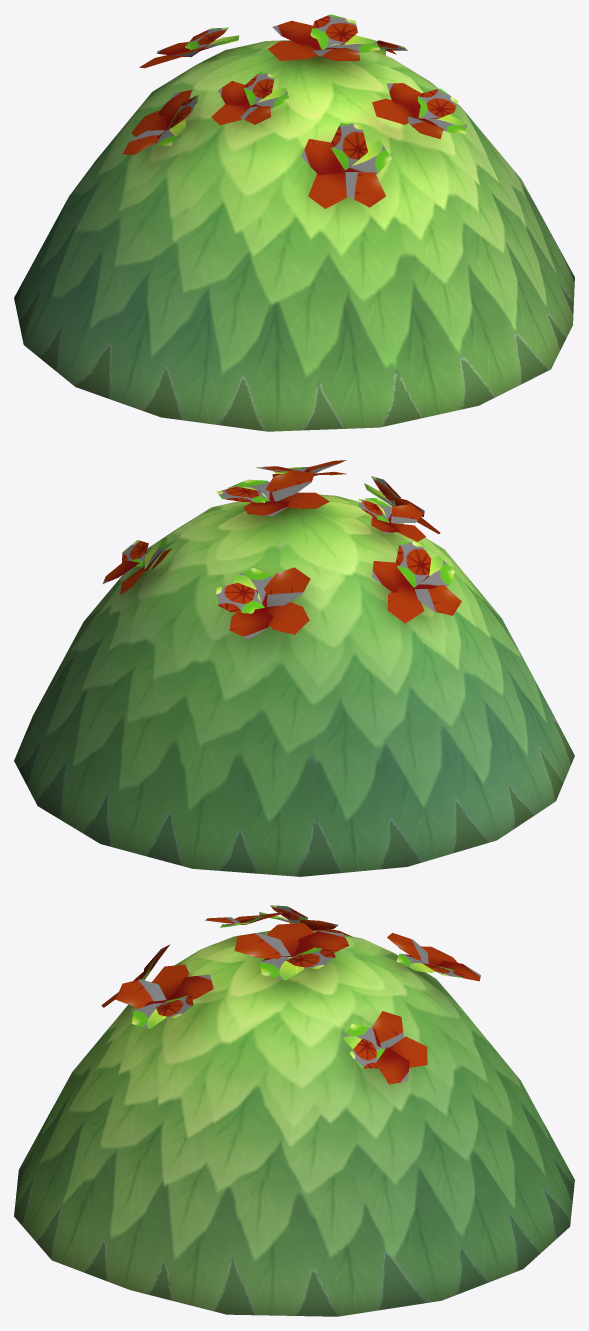
Rendered from decor_6.fbx.
3 renders of one model, top to bottom at view 1: azimuth 30°, elevation 25°; view 2: azimuth 150°, elevation 25°; view 3: azimuth 270°, elevation 25°, orthographic. The views are drawn at different scales.
Parts seen in each view (by area): view 1: Plane.003; view 2: Plane.003; view 3: Plane.003.
Part boxes in pixels (x1=…): Plane.003: x1=14, y1=14, x2=574, y2=431; Plane.003: x1=14, y1=460, x2=574, y2=876; Plane.003: x1=14, y1=905, x2=574, y2=1316.
Size of the model in its own units: 0.7746 by 0.4053 by 0.7746.
